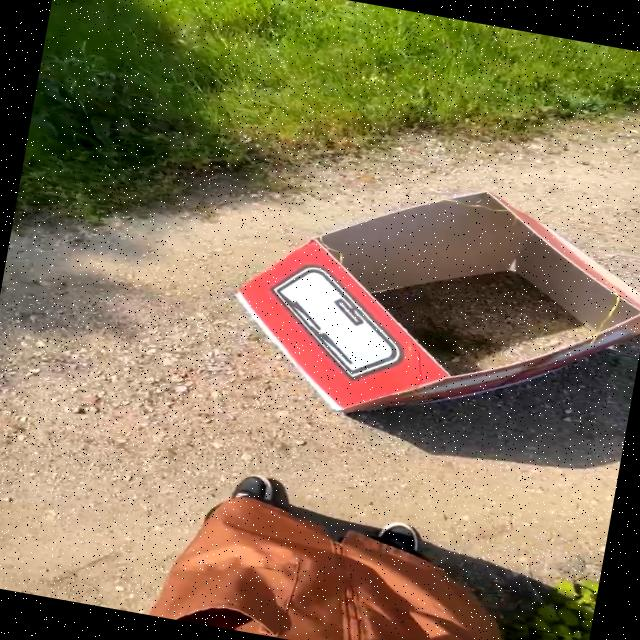red_car: (189, 132, 640, 471)
